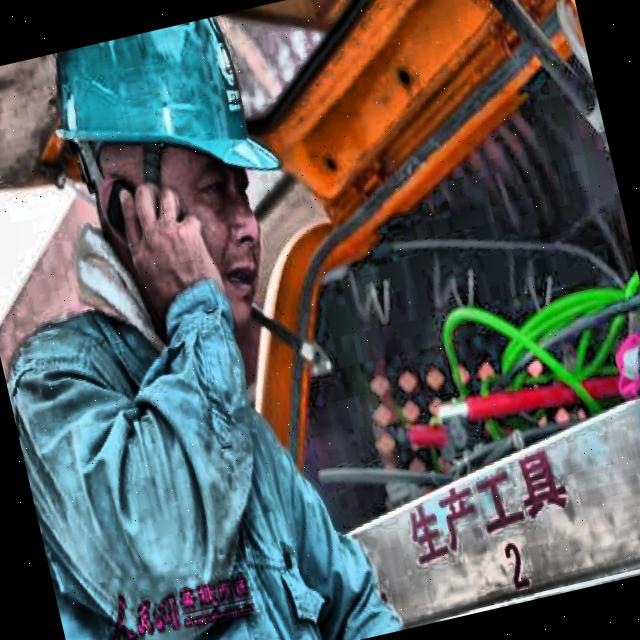helmet: (41, 14, 313, 356)
